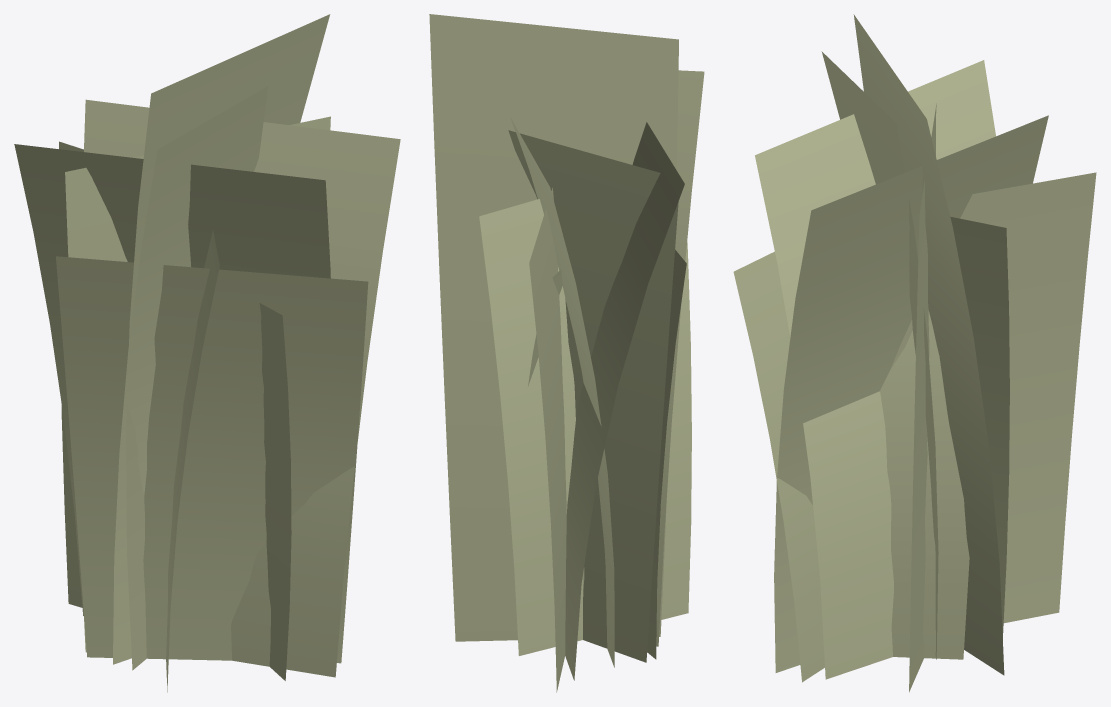
The model's file is reed1.glb.
3 renders of one model, left to right at view 1: azimuth 30°, elevation 25°; view 2: azimuth 150°, elevation 25°; view 3: azimuth 270°, elevation 25°, orthographic.
Parts seen in each view (by area): view 1: reed1; view 2: reed1; view 3: reed1.
Part boxes in pixels (x1,y1,x2,y2): reed1: (14, 14, 400, 692); reed1: (429, 14, 704, 692); reed1: (733, 14, 1096, 692).
Bounding box in the file's own units: 0.8738 × 1.65 × 0.9201.
